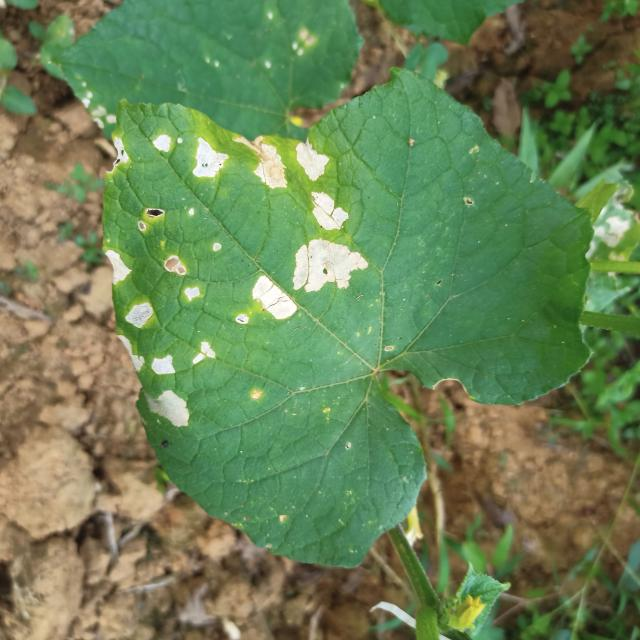disease_cucumber: (251, 237, 368, 317), (250, 138, 327, 190), (151, 133, 228, 178), (145, 354, 191, 429), (163, 251, 201, 302), (313, 186, 347, 232), (108, 245, 132, 289), (118, 339, 144, 372), (125, 303, 152, 329), (191, 342, 220, 364)
